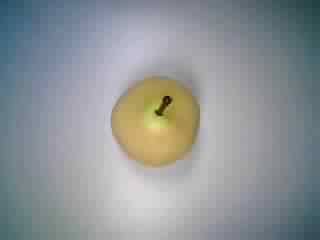pear: (103, 66, 208, 174)
